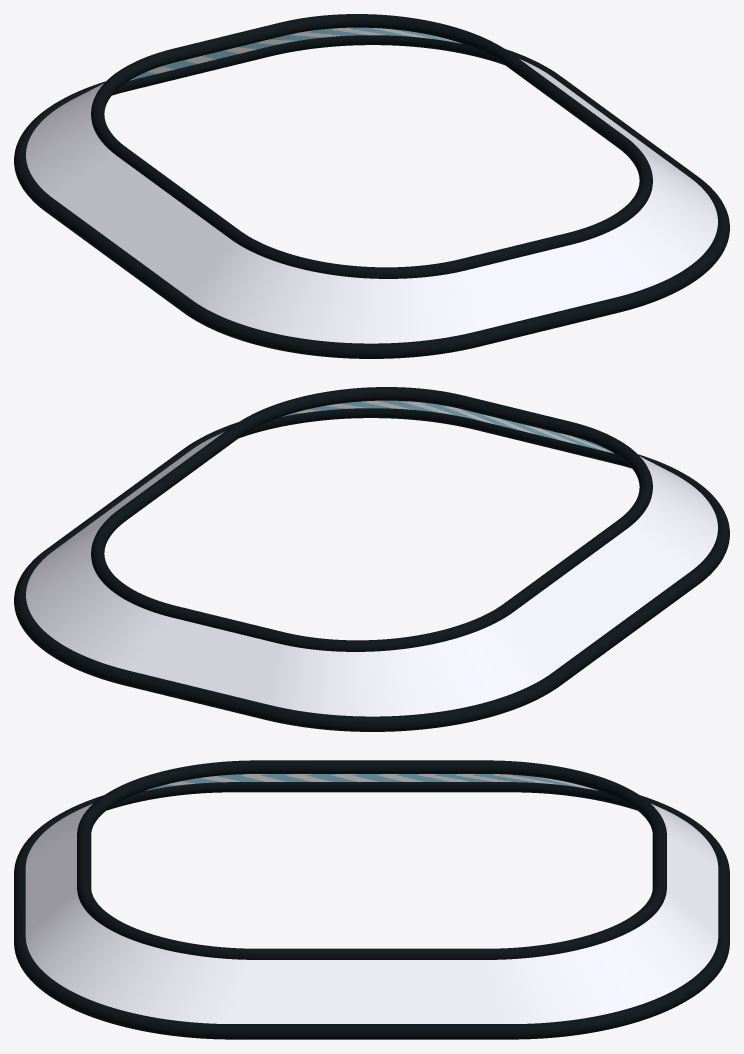
The model's file is SM_Ceiling01.fbx.
3 views of the same model, one above another, from view 1: azimuth 30°, elevation 25°; view 2: azimuth 150°, elevation 25°; view 3: azimuth 270°, elevation 25° (orthographic).
Parts seen in each view (by area): view 1: SM_Ceiling01; view 2: SM_Ceiling01; view 3: SM_Ceiling01.
Part boxes in pixels (x1,y1,x2,y2): SM_Ceiling01: (14,14,729,358); SM_Ceiling01: (14,387,729,731); SM_Ceiling01: (14,760,729,1039).
Size of the model in its own units: 14156 by 1564 by 16880.
